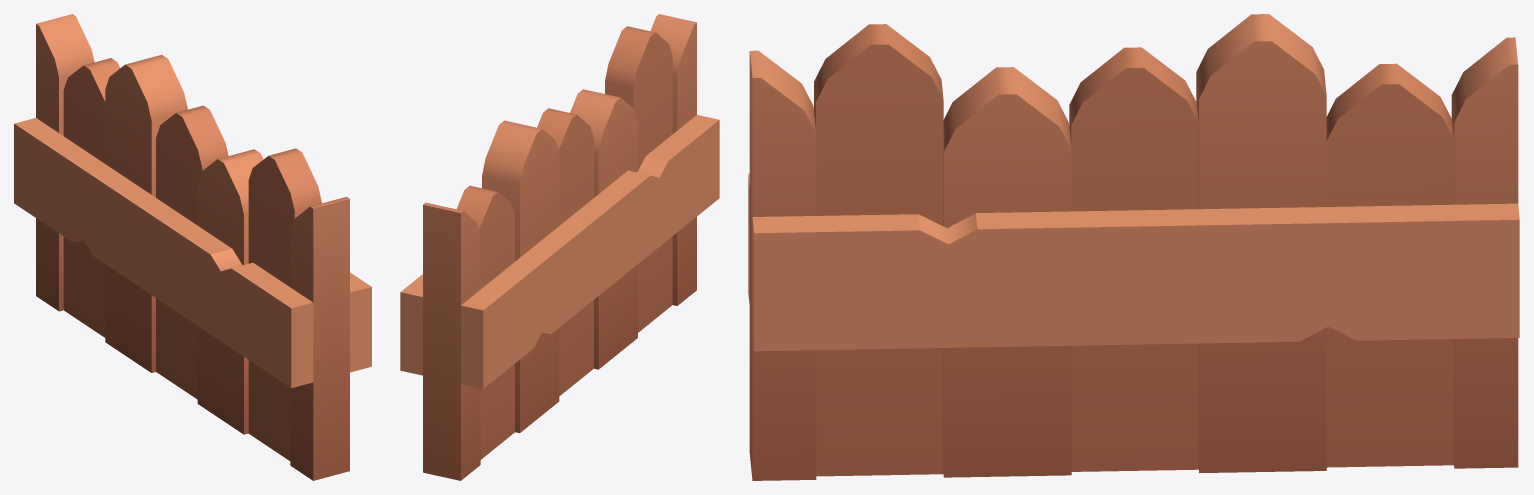
File: fence.002_lev2.glb
3 renders of one model, left to right at view 1: azimuth 30°, elevation 25°; view 2: azimuth 150°, elevation 25°; view 3: azimuth 270°, elevation 25°, orthographic. The views are drawn at different scales.
Parts seen in each view (by area): view 1: fence.002_lev2; view 2: fence.002_lev2; view 3: fence.002_lev2.
Boxes of the visible parts, x1,y1,x2,y2 form: fence.002_lev2: (14, 14, 371, 480); fence.002_lev2: (400, 14, 719, 480); fence.002_lev2: (748, 14, 1519, 480).
Bounding box in the file's own units: 1.8 × 4.96 × 8.05.
Materials: 1 (1 with a texture image).
